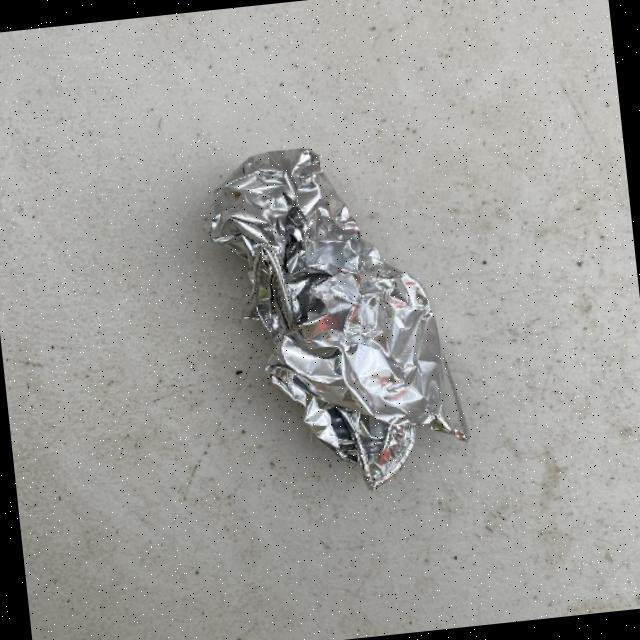metal: (200, 132, 473, 504)
